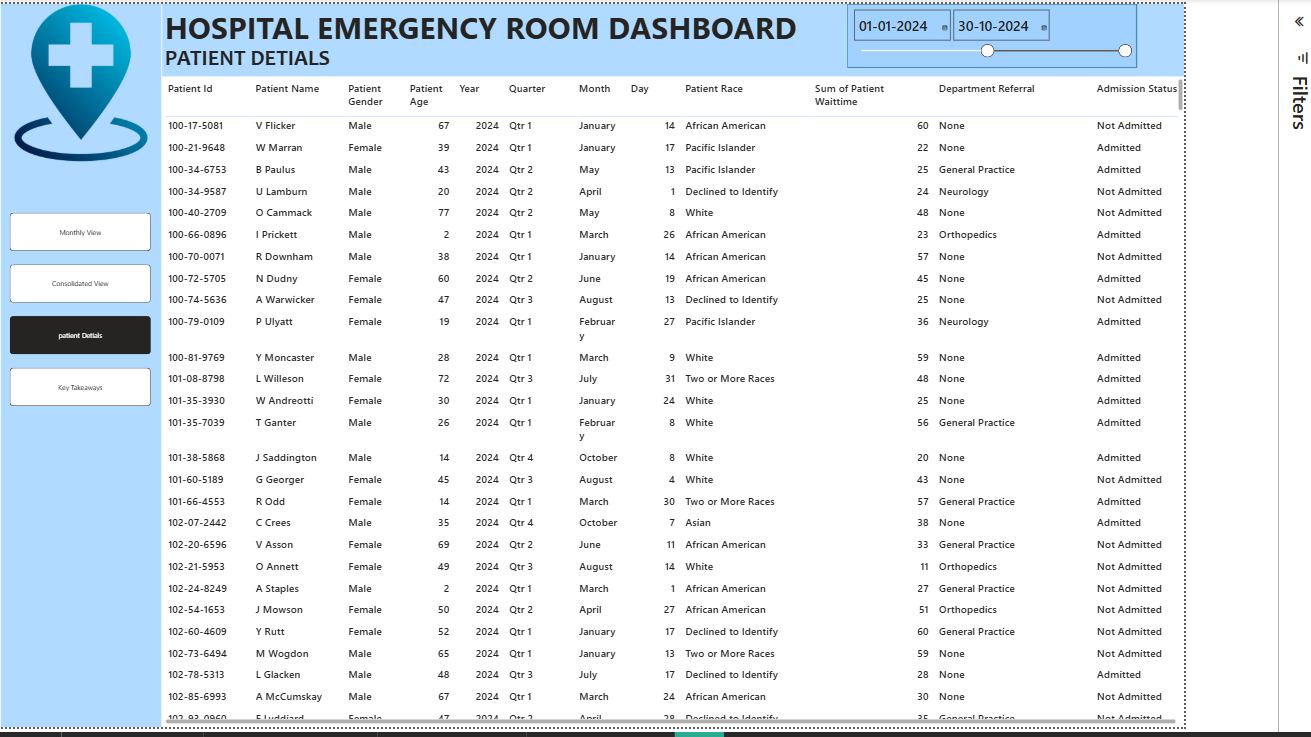

What the dashboard file says about the page in this screenshot:
{"tool":"powerbi","page":{"name":"patient Detials","canvas":[2300,1400],"ordinal":2},"visuals":[{"type":"shape","box":[9.9,0,310,1399],"z":0},{"type":"shape","box":[320.5,0,1980,140.5],"z":1000},{"type":"textbox","box":[320.5,0,1260,91.2],"z":2000},{"type":"textbox","box":[320.5,71.5,364.9,69],"z":3000},{"type":"slicer","fields":{"Values":["Date Table.Date"]},"box":[1647.1,0,559.7,123.3],"z":4000},{"type":"image","box":[9.7,0,309.6,304.8],"z":5000},{"type":"tableEx","fields":{"Values":["Hospital ER_Data.Patient Id","Hospital ER_Data.Patient Full Name","Hospital ER_Data.Patient Gender","Sum(Hospital ER_Data.Patient Age)","Hospital ER_Data.Patient Admission Date.Variation.Date Hierarchy.Year","Hospital ER_Data.Patient Admission Date.Variation.Date Hierarchy.Quarter","Hospital ER_Data.Patient Admission Date.Variation.Date Hierarchy.Month","Hospital ER_Data.Patient Admission Date.Variation.Date Hierarchy.Day","Hospital ER_Data.Patient Race","Sum(Hospital ER_Data.Patient Waittime)","Hospital ER_Data.Department Referral","Hospital ER_Data.Admission Status"]},"box":[320.5,140.5,1980,1257.5],"z":6000},{"type":"pageNavigator","box":[27.1,404.4,273.7,377.3],"z":7000}]}

Visuals, with their boxes on the page's 2300x1400 design canvas (x1, y1, x2, y2). These are canvas units, not pixel positions in the 1311x737 screenshot, which may show the page scaled, cropped or inside an application window:
shape: left=10, top=0, right=320, bottom=1399
shape: left=320, top=0, right=2300, bottom=140
textbox: left=320, top=0, right=1580, bottom=91
textbox: left=320, top=72, right=685, bottom=140
slicer - Date Table.Date: left=1647, top=0, right=2207, bottom=123
image: left=10, top=0, right=319, bottom=305
tableEx - Hospital ER_Data.Patient Id x Hospital ER_Data.Patient Full Name: left=320, top=140, right=2300, bottom=1398
pageNavigator: left=27, top=404, right=301, bottom=782
